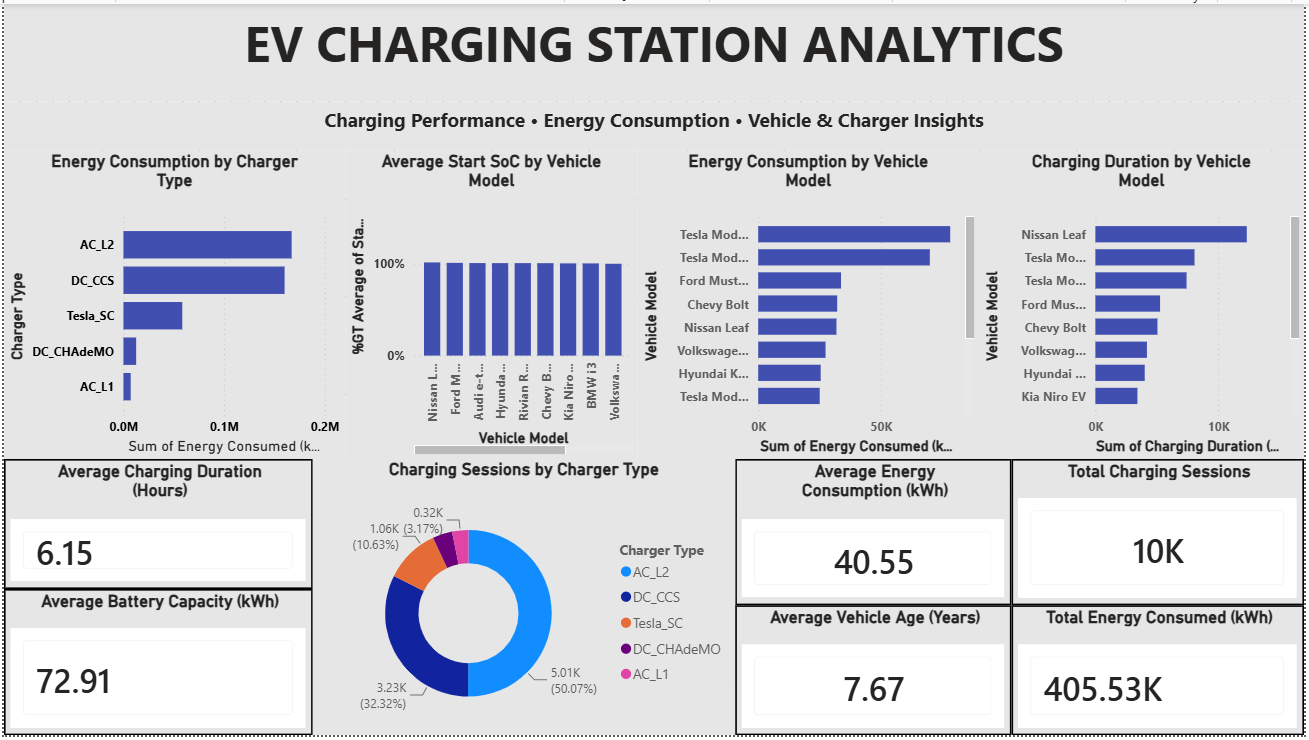

The page's visual inventory and layout, read from the dashboard file:
{"tool":"powerbi","page":{"name":"Page 1","canvas":[1280,720],"ordinal":0},"visuals":[{"type":"cardVisual","title":"Total Charging Sessions","fields":{"Data":["CountNonNull(ev_charging_dataset.User ID)"]},"box":[992,448,288,144],"z":0},{"type":"cardVisual","title":"Average Energy Consumption (kWh)","fields":{"Data":["Avg(ev_charging_dataset.Energy Consumed (kWh))"]},"box":[720,448,272,144],"z":1000},{"type":"cardVisual","title":"Average Battery Capacity (kWh)","fields":{"Data":["Avg(ev_charging_dataset.Battery Capacity (kWh))"]},"box":[0,576,304,144],"z":2000},{"type":"cardVisual","title":"Total Energy Consumed (kWh)","fields":{"Data":["Sum(ev_charging_dataset.Energy Consumed (kWh))"]},"box":[992,592,288,128],"z":3000},{"type":"cardVisual","title":"Average Charging Duration (Hours)","fields":{"Data":["Avg(ev_charging_dataset.Charging Duration (hours))"]},"box":[0,448,304,128],"z":4000},{"type":"barChart","title":"Energy Consumption by Vehicle Model","fields":{"Y":["Sum(ev_charging_dataset.Energy Consumed (kWh))"],"Category":["ev_charging_dataset.Vehicle Model"]},"box":[624,144,336,304],"z":5000},{"type":"barChart","title":"Charging Duration by Vehicle Model","fields":{"Category":["ev_charging_dataset.Vehicle Model"],"Y":["Sum(ev_charging_dataset.Charging Duration (hours))"]},"box":[960,144,320,304],"z":6000},{"type":"barChart","title":"Energy Consumption by Charger Type","fields":{"Category":["ev_charging_dataset.Charger Type"],"Y":["Sum(ev_charging_dataset.Energy Consumed (kWh))"]},"box":[0,144,336,304],"z":7000},{"type":"donutChart","title":"Charging Sessions by Charger Type","fields":{"Category":["ev_charging_dataset.Charger Type"],"Y":["CountNonNull(ev_charging_dataset.User ID)"]},"box":[304,448,416,272],"z":8000},{"type":"columnChart","title":"Average Start SoC by Vehicle Model","fields":{"Category":["ev_charging_dataset.Vehicle Model"],"Y":["Sum(ev_charging_dataset.State of Charge (End %))"]},"box":[336,144,288,304],"z":9000},{"type":"textbox","box":[0,0,1280,96],"z":10000},{"type":"textbox","box":[0,96,1280,48],"z":11000},{"type":"cardVisual","title":"Average Vehicle Age (Years)","fields":{"Data":["Avg(ev_charging_dataset.Vehicle Age (years))"]},"box":[720,592,272,128],"z":12000}]}

Visuals, with their boxes in screenshot pixels (x1, y1, x2, y2), scaled from the page's 1280x720 canvas onto the 1309x740 screenshot:
"Total Charging Sessions" cardVisual: (1014, 460, 1308, 608)
"Average Energy Consumption (kWh)" cardVisual: (736, 460, 1014, 608)
"Average Battery Capacity (kWh)" cardVisual: (0, 592, 311, 739)
"Total Energy Consumed (kWh)" cardVisual: (1014, 608, 1308, 739)
"Average Charging Duration (Hours)" cardVisual: (0, 460, 311, 592)
"Energy Consumption by Vehicle Model" barChart: (638, 148, 982, 460)
"Charging Duration by Vehicle Model" barChart: (982, 148, 1308, 460)
"Energy Consumption by Charger Type" barChart: (0, 148, 344, 460)
"Charging Sessions by Charger Type" donutChart: (311, 460, 736, 739)
"Average Start SoC by Vehicle Model" columnChart: (344, 148, 638, 460)
textbox: (0, 0, 1308, 99)
textbox: (0, 99, 1308, 148)
"Average Vehicle Age (Years)" cardVisual: (736, 608, 1014, 739)
